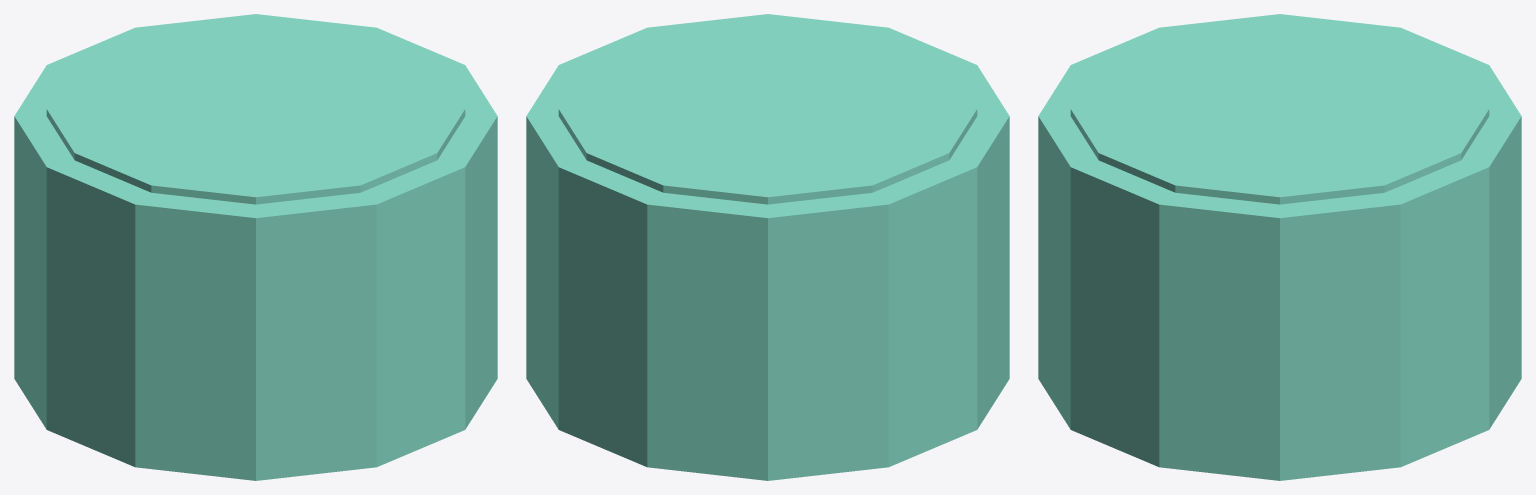
3 views of the same model, side by side, from view 1: azimuth 30°, elevation 25°; view 2: azimuth 150°, elevation 25°; view 3: azimuth 270°, elevation 25° (orthographic).
Visible parts, largest first — view 1: Water tub, Water surface; view 2: Water tub, Water surface; view 3: Water tub, Water surface.
Part boxes in pixels (<box>): Water tub: <box>14,14,497,480</box>; Water surface: <box>46,20,465,204</box>; Water tub: <box>526,14,1009,480</box>; Water surface: <box>558,20,977,204</box>; Water tub: <box>1038,14,1521,480</box>; Water surface: <box>1070,20,1489,204</box>.
Bounding box in the file's own units: 0.6 × 0.37 × 0.6.
1 material, 1 textured.
